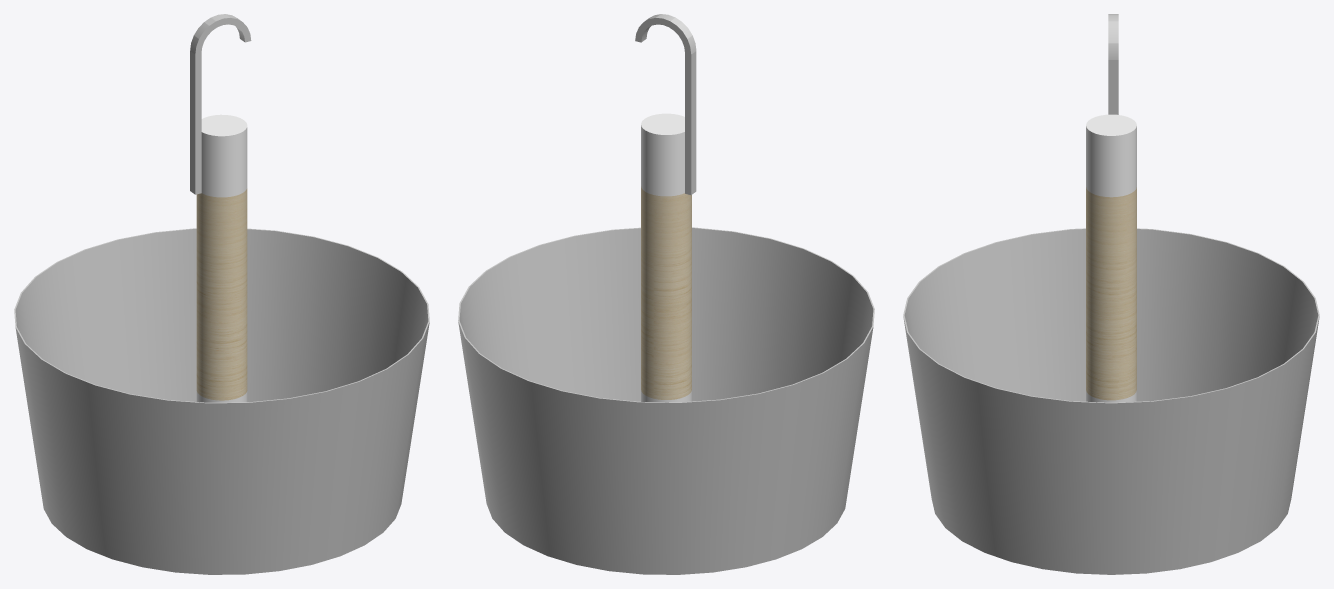
Rendered from BITTERGURKA_Planter_To_hang.obj.
3 renders of one model, left to right at view 1: azimuth 30°, elevation 25°; view 2: azimuth 150°, elevation 25°; view 3: azimuth 270°, elevation 25°, orthographic.
Visible parts, largest first — view 1: Line003, Circle002, Circle001, Generic_Models; view 2: Line003, Circle002, Circle001, Generic_Models; view 3: Line003, Circle002, Circle001, Generic_Models.
Boxes of the visible parts, <box> form: Line003: <box>14,228,429,574</box>; Circle002: <box>196,188,247,400</box>; Circle001: <box>201,114,247,197</box>; Generic_Models: <box>190,14,251,194</box>; Line003: <box>458,227,874,574</box>; Circle002: <box>641,186,691,399</box>; Circle001: <box>641,113,684,196</box>; Generic_Models: <box>635,14,696,194</box>; Line003: <box>903,228,1319,574</box>; Circle002: <box>1086,187,1136,400</box>; Circle001: <box>1086,114,1136,197</box>; Generic_Models: <box>1108,14,1118,114</box>.
Size of the model in its own units: 290 by 370 by 290.
